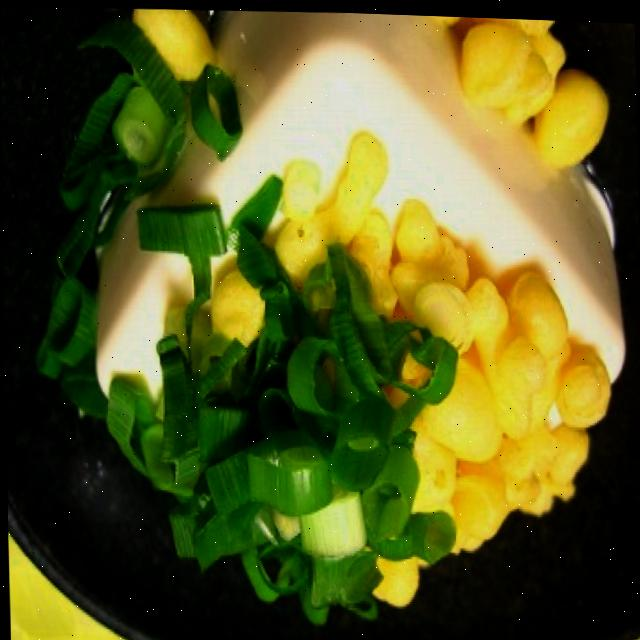豆腐料理: (30, 1, 635, 637)
